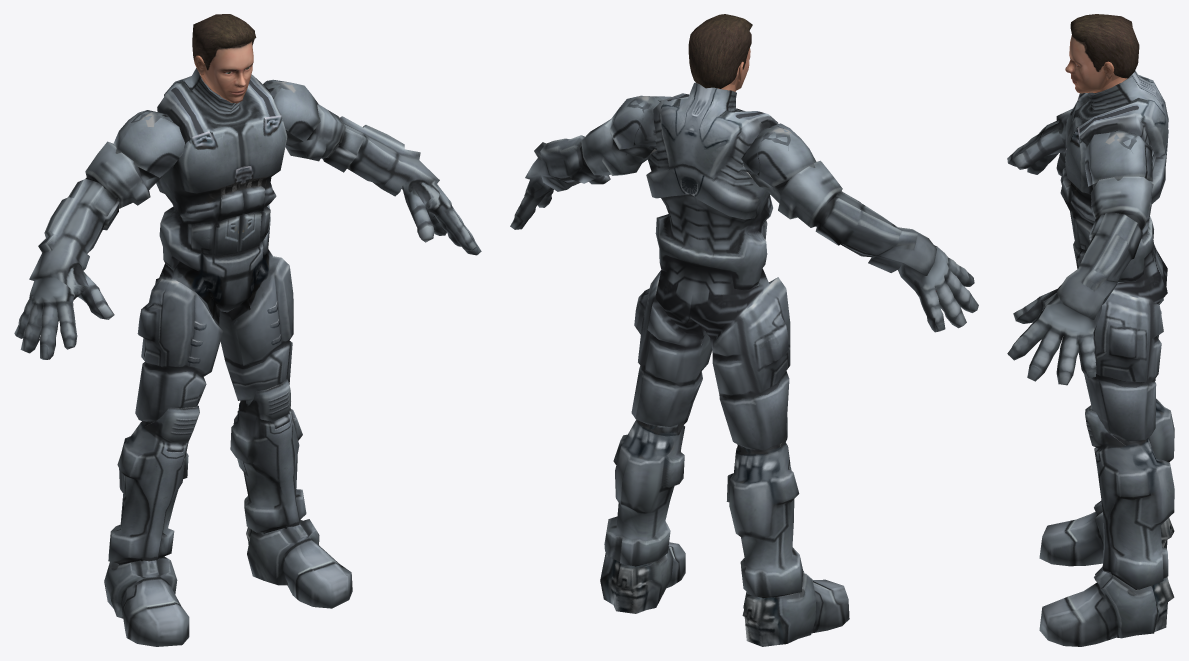
File: LiftOff.fbx
The picture shows the model from 3 angles, left to right: view 1: azimuth 30°, elevation 25°; view 2: azimuth 150°, elevation 25°; view 3: azimuth 270°, elevation 25°; orthographic projection.
Visible parts, largest first — view 1: LiftOffMale, Head, Hair; view 2: LiftOffMale, Hair; view 3: LiftOffMale, Hair, Head.
Part boxes in pixels (left/top/right/bottom): LiftOffMale: left=14, top=68, right=481, bottom=646; Head: left=194, top=41, right=253, bottom=103; Hair: left=192, top=14, right=256, bottom=67; LiftOffMale: left=510, top=82, right=978, bottom=646; Hair: left=688, top=14, right=752, bottom=88; LiftOffMale: left=1007, top=70, right=1174, bottom=646; Hair: left=1070, top=14, right=1139, bottom=78; Head: left=1065, top=35, right=1127, bottom=93.
Size of the model in its own units: 163 by 205 by 53.85.
3 materials, 3 textured.
